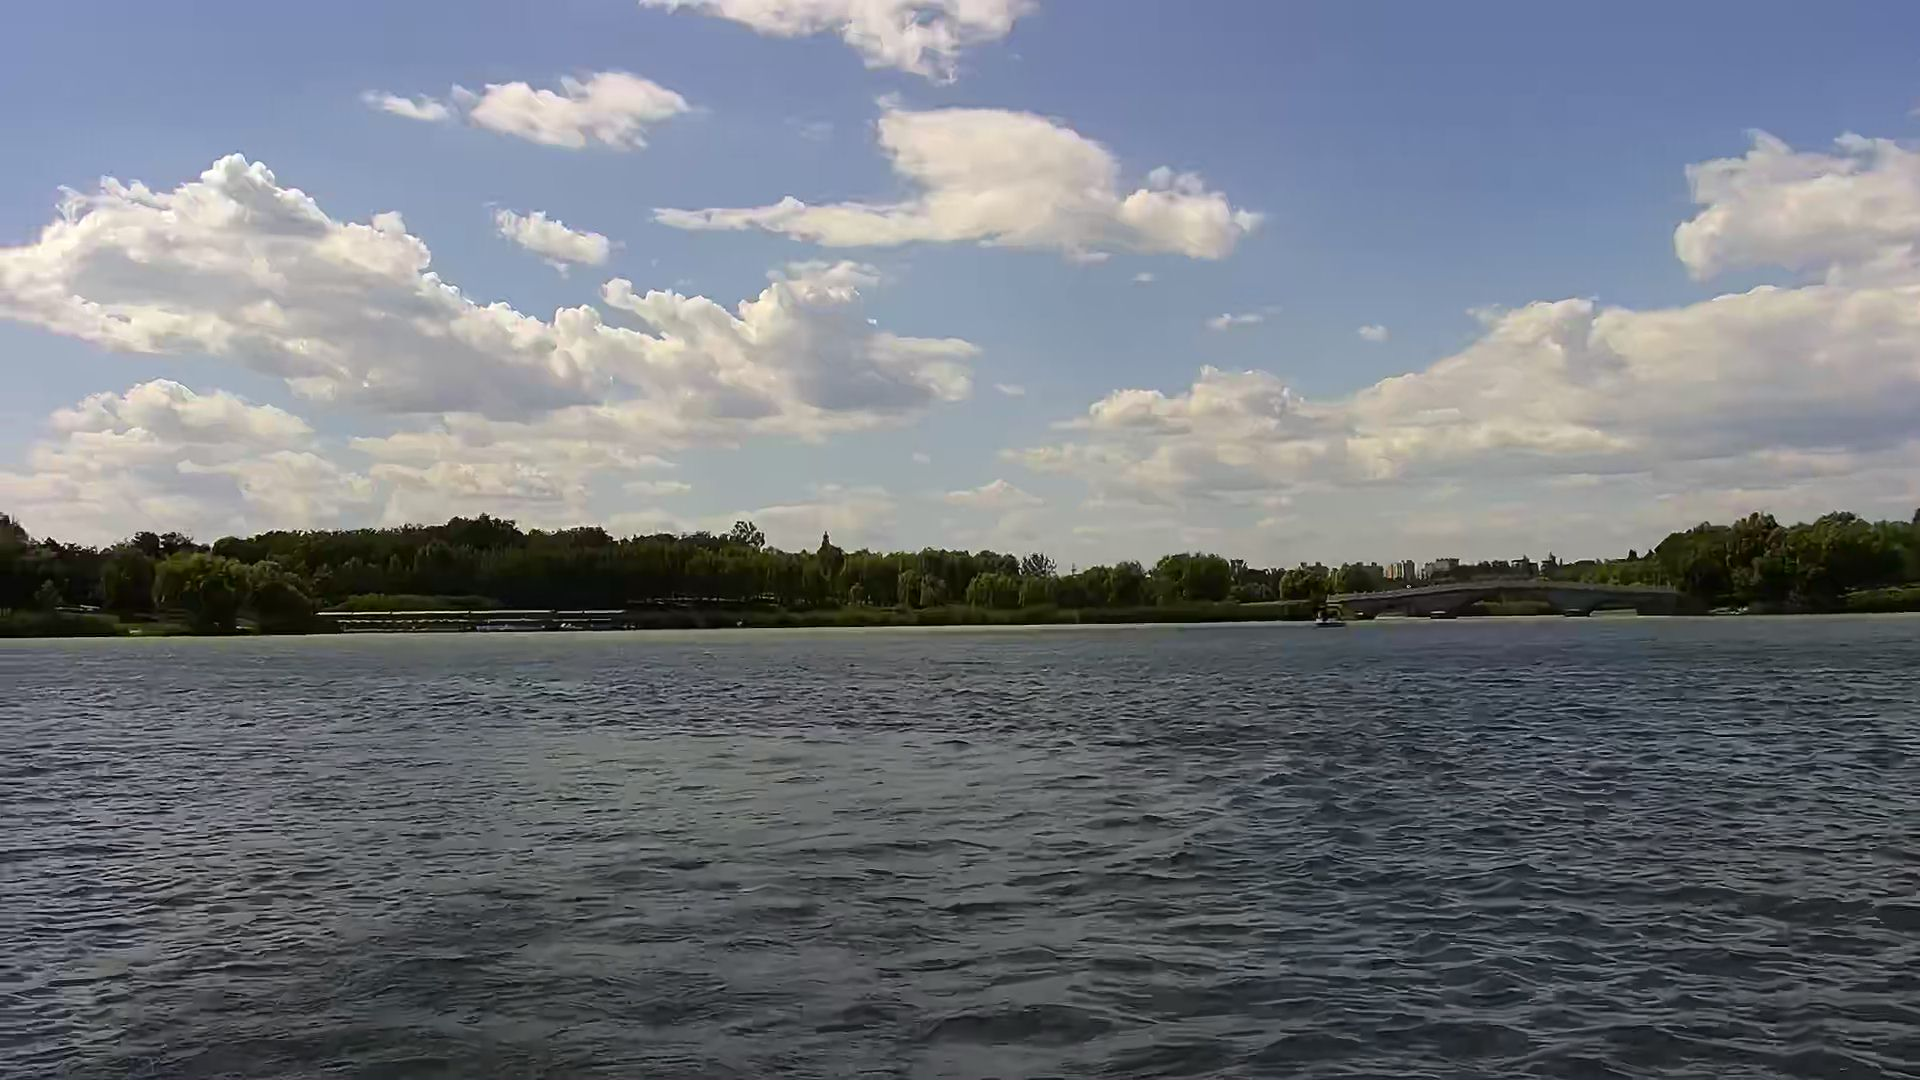boat: (1312, 607, 1346, 628)
bridge: (1323, 583, 1673, 615)
harbor: (316, 604, 625, 634)
